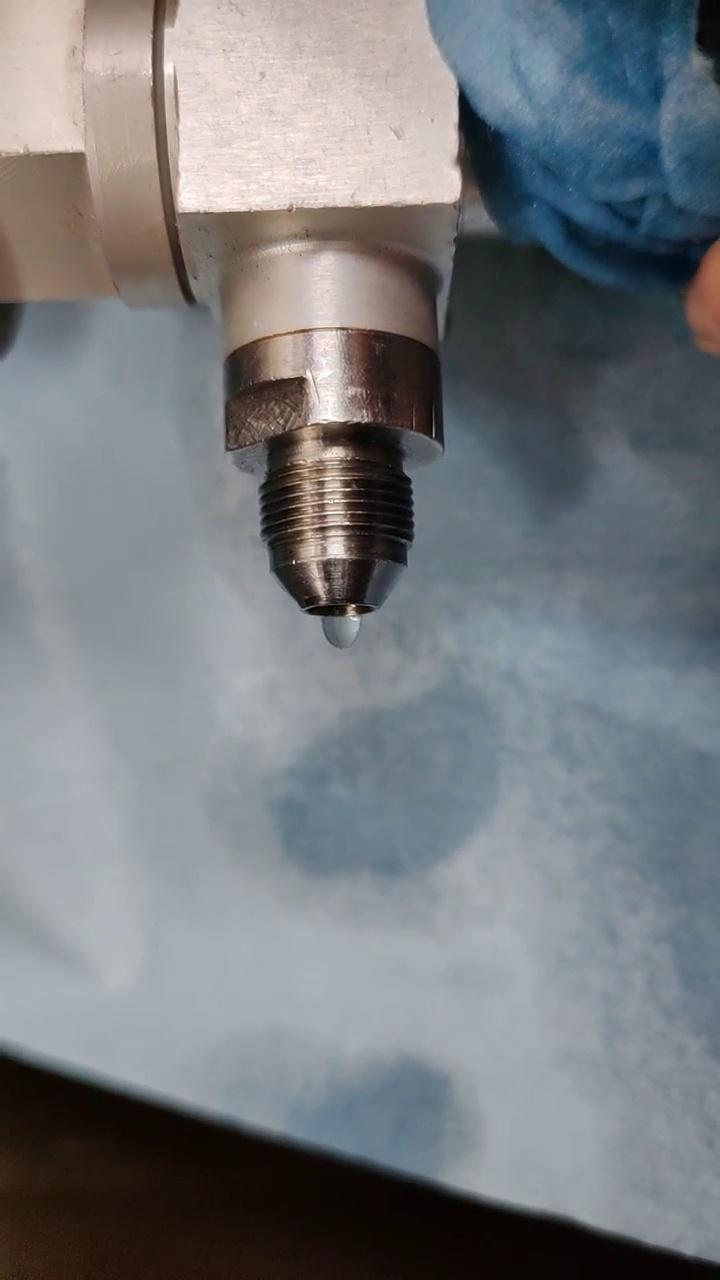water drop: (323, 609, 359, 650)
